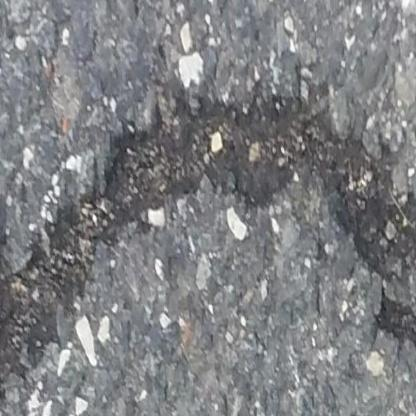Cracks: (0, 74, 416, 416), (377, 293, 416, 370)
